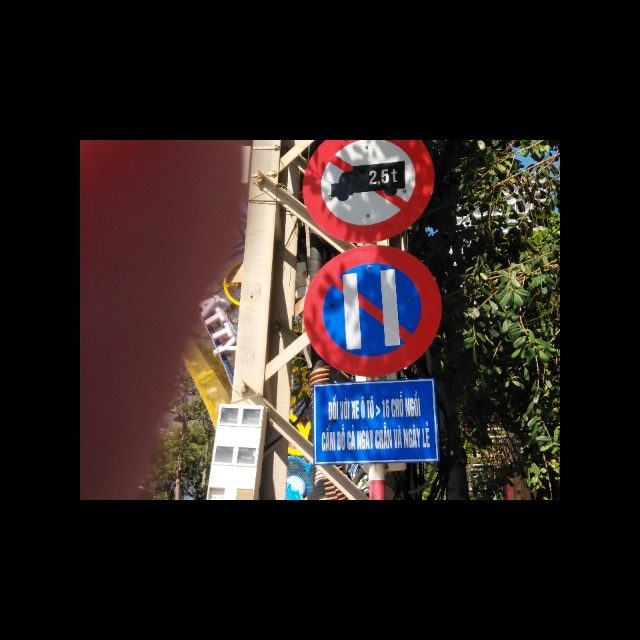Cấm đỗ xe ngày chẵn: (299, 246, 445, 377)
